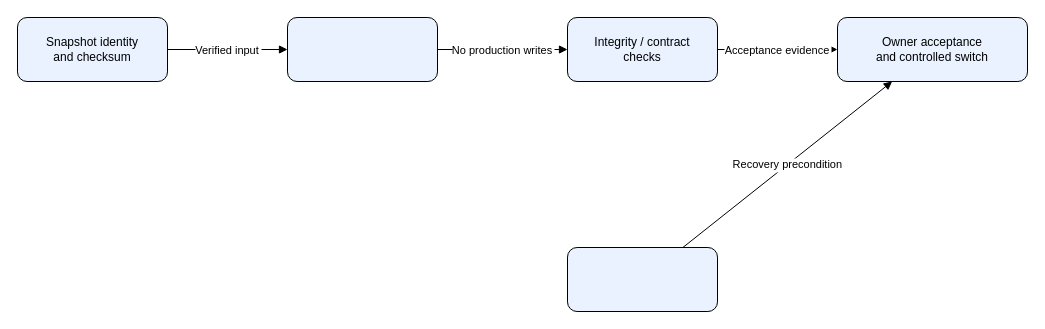
Image size: 1045x329. Some labels were removed from this diagram. The shapes that lost their labels are listed below. From the top down, each one's centre as x and y in pixels, then its label:
At pixel 362 49: "Restore isolated copy".
At pixel 642 279: "Rollback path verified before switch".
